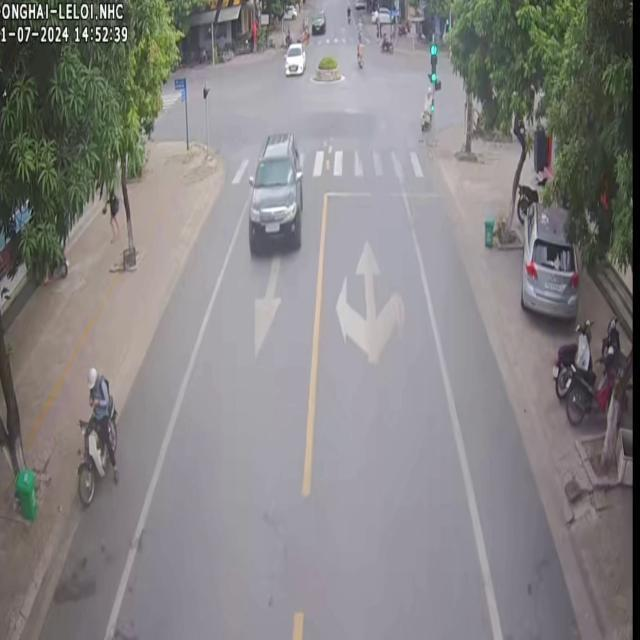car: (519, 200, 578, 317), (247, 131, 300, 254), (283, 42, 304, 74)
green_light: (429, 45, 438, 87)
motobike: (76, 365, 117, 504), (564, 345, 620, 422), (550, 318, 590, 398), (419, 94, 430, 128)
stop_line: (327, 188, 446, 195)
